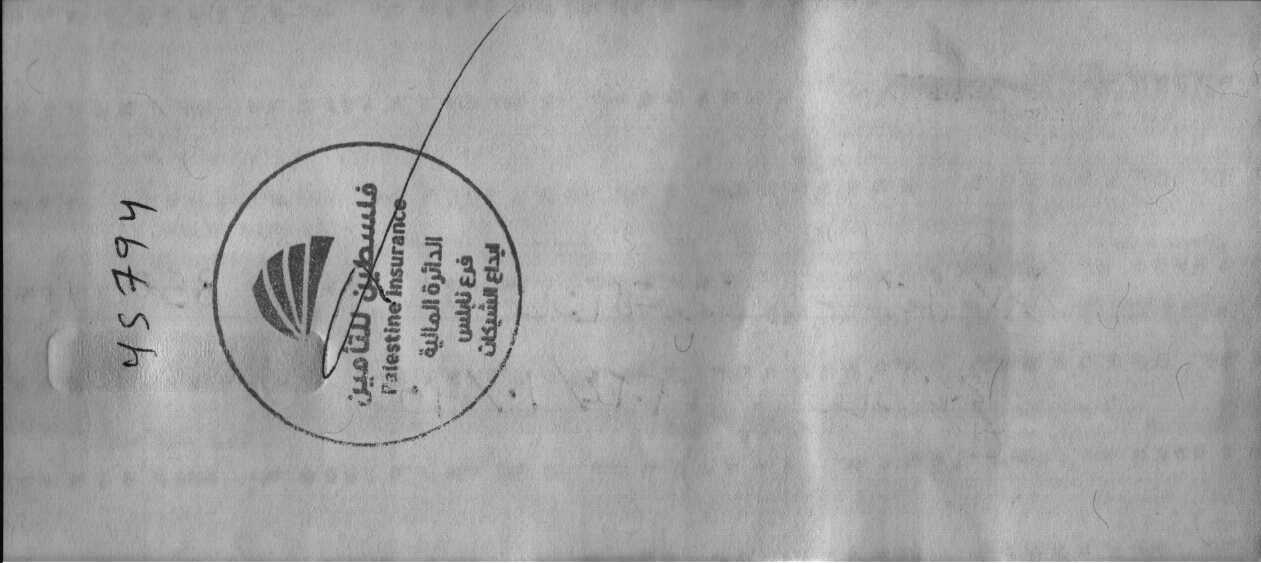stamp: (208, 139, 525, 449)
